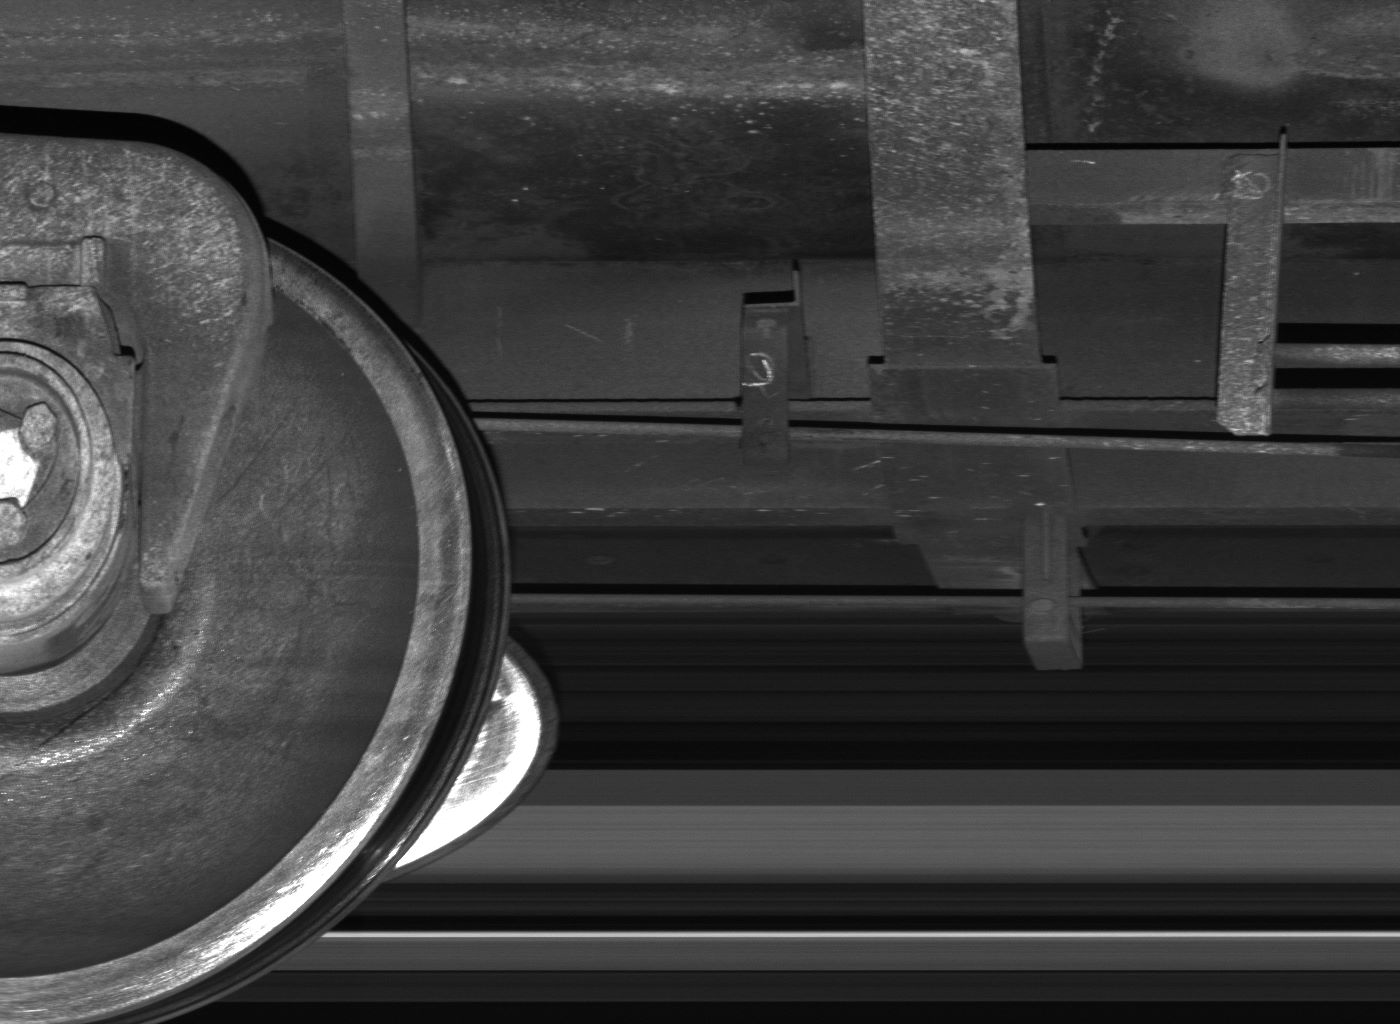normal: (739, 267, 804, 464), (1023, 515, 1085, 670)
